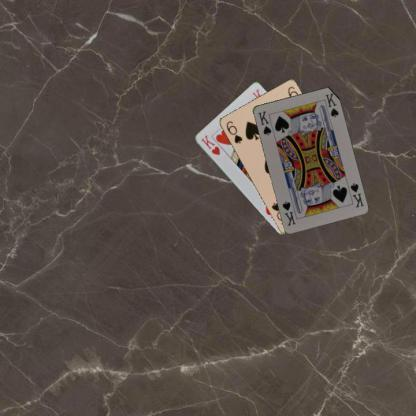6s: (223, 118, 244, 145)
Kh: (198, 132, 221, 157)
Ks: (347, 180, 365, 209), (255, 108, 273, 136)
